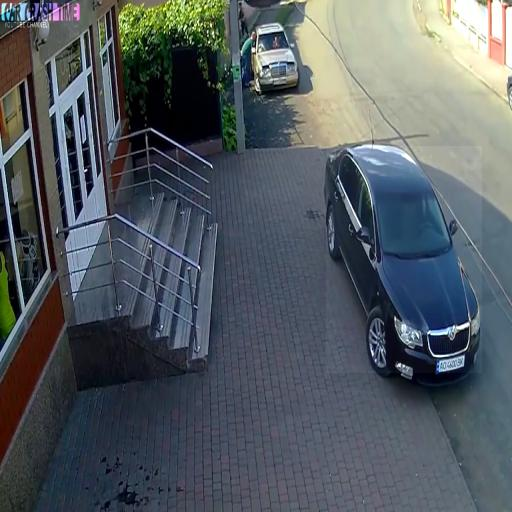小汽车: (326, 146, 482, 373), (253, 24, 299, 93)
